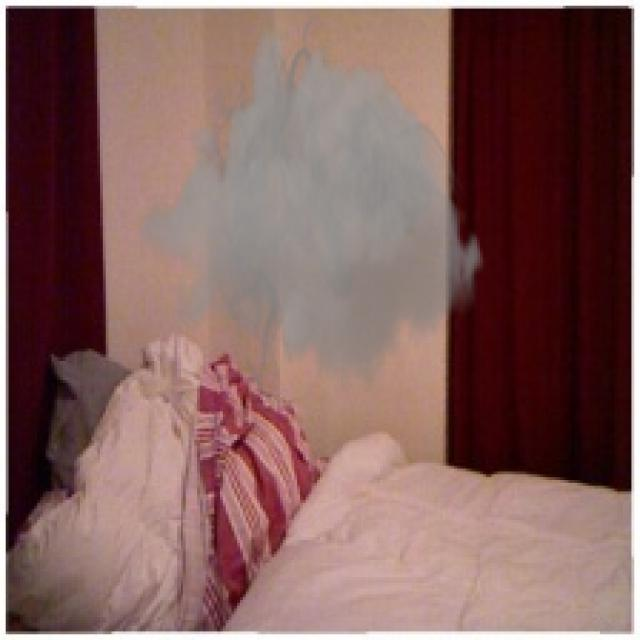smoke: (137, 8, 486, 426)
